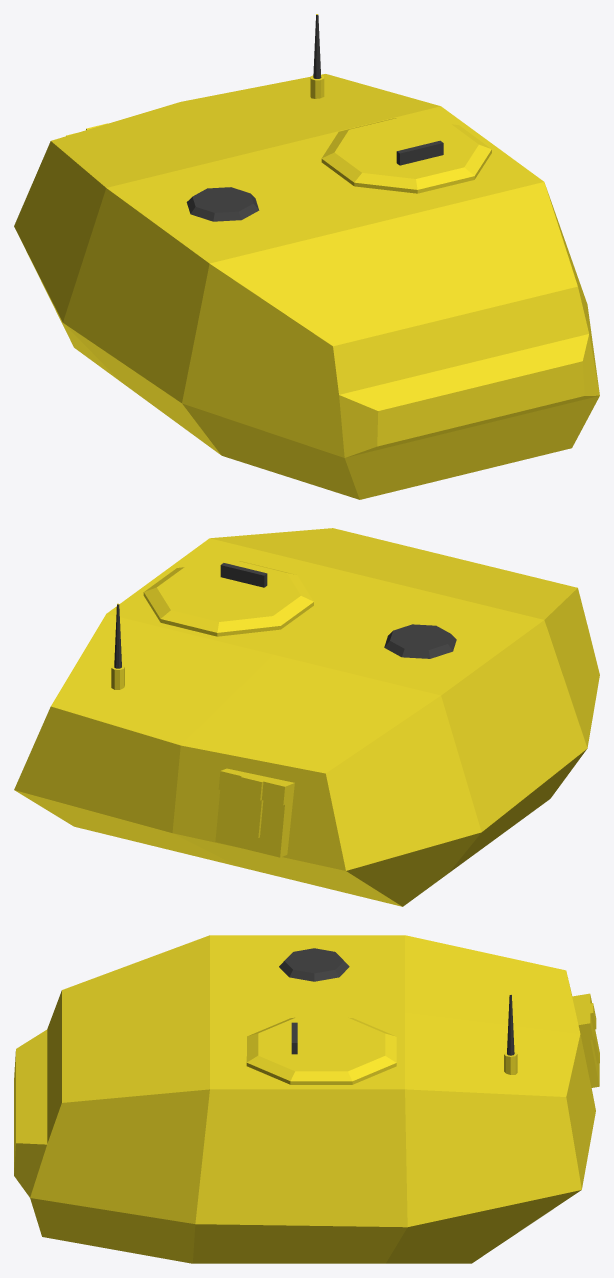
The model's file is tankTurret 2.fbx.
3 views of the same model, one above another, from view 1: azimuth 30°, elevation 25°; view 2: azimuth 150°, elevation 25°; view 3: azimuth 270°, elevation 25° (orthographic). The views are drawn at different scales.
Parts seen in each view (by area): view 1: Cube.003; view 2: Cube.003; view 3: Cube.003.
Boxes of the visible parts, box(x1,y1,x2,y2) form: Cube.003: box(14, 14, 599, 499); Cube.003: box(14, 528, 599, 906); Cube.003: box(14, 935, 599, 1263).
Size of the model in its own units: 5.63 by 3.26 by 7.23.
